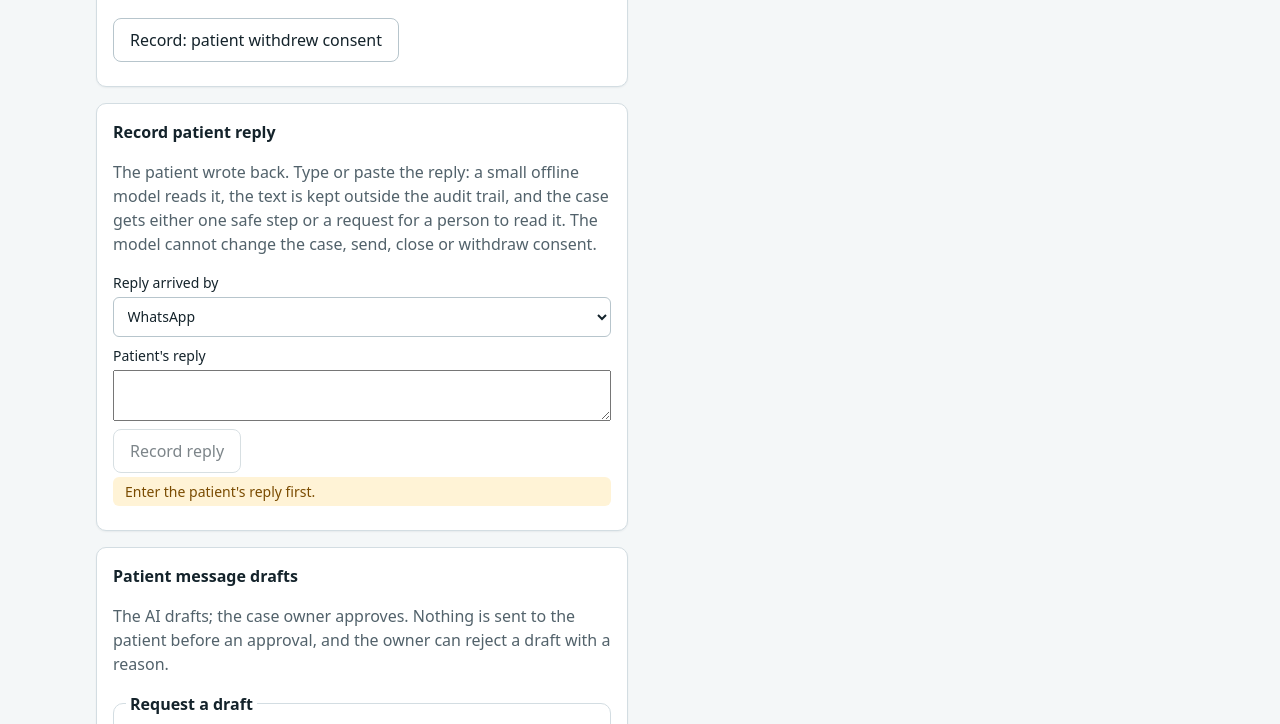
Record patient reply › shows the API's own answer, including a fail-safe 'unavailable' model
The image size is (1280, 724).
(page scrolled)
Expected: the element with test id "reply-panel" is shown, [96,103,628,531]
In the text box with test id "reply-text": (362,395) [113,370,611,421], type "anything"
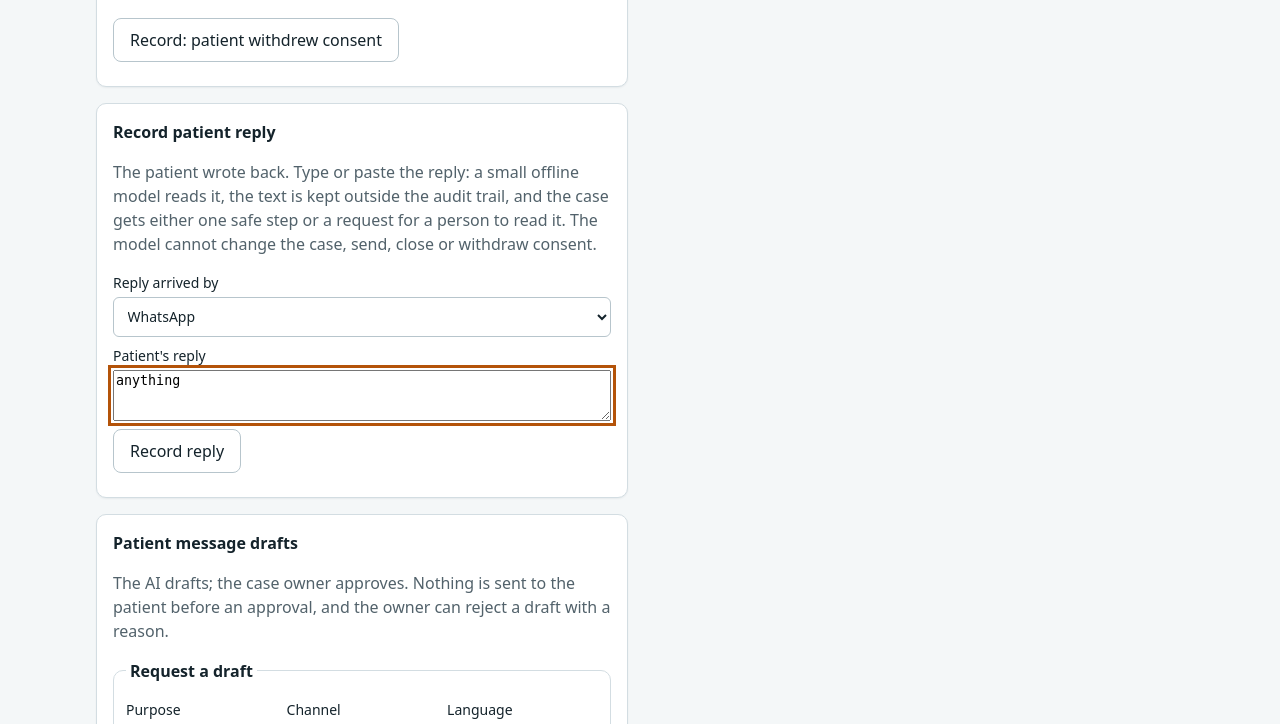
Click the button with test id "record-reply": (177,451) [113,429,241,473]
(page scrolled)
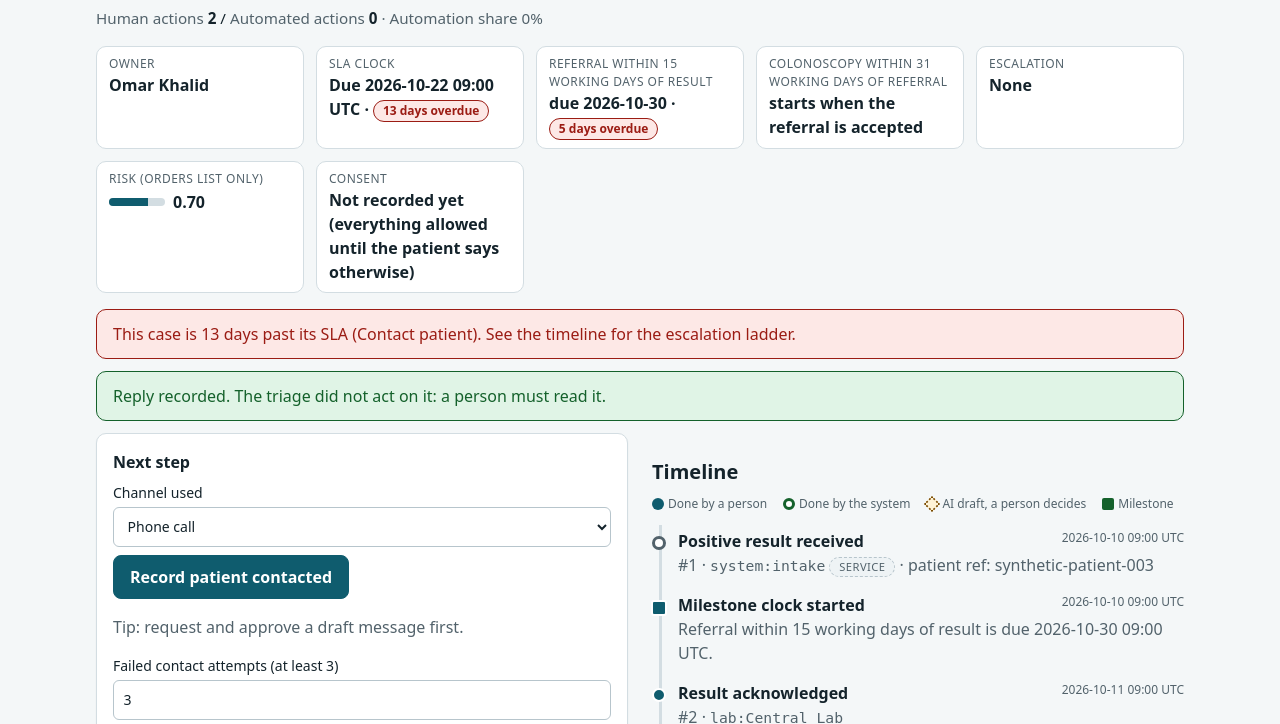
Now the message with test id "flash" shows "a person must read it", box [113,385,606,407]
